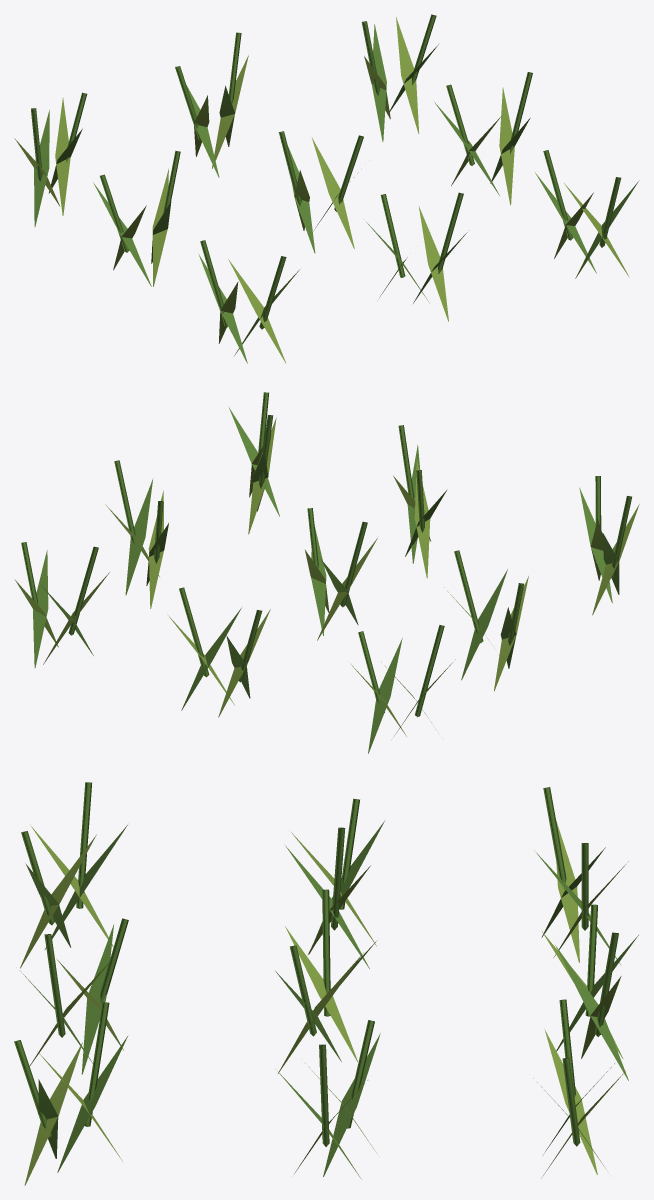
Rendered from crop-cell-rice-seedling.gltf.
The picture shows the model from 3 angles, top to bottom: view 1: azimuth 30°, elevation 25°; view 2: azimuth 150°, elevation 25°; view 3: azimuth 270°, elevation 25°; orthographic projection. The views are drawn at different scales.
Visible parts, largest first — view 1: crop-cell-rice-seedling; view 2: crop-cell-rice-seedling; view 3: crop-cell-rice-seedling.
Part boxes in pixels (bbox=[...]): crop-cell-rice-seedling: bbox=[14, 14, 639, 363]; crop-cell-rice-seedling: bbox=[14, 392, 639, 753]; crop-cell-rice-seedling: bbox=[14, 782, 638, 1185].
Bounding box in the file's own units: 0.4744 × 0.1235 × 0.4645.
